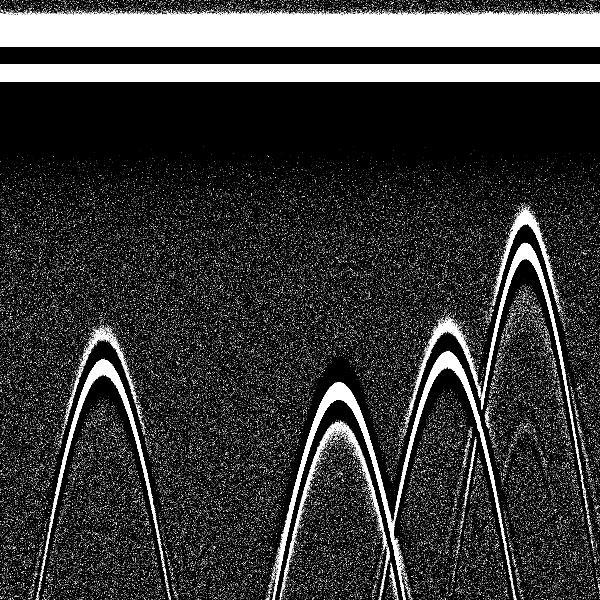pipe: (290, 6, 383, 455), (57, 3, 147, 430), (401, 7, 490, 424), (484, 5, 563, 298)
